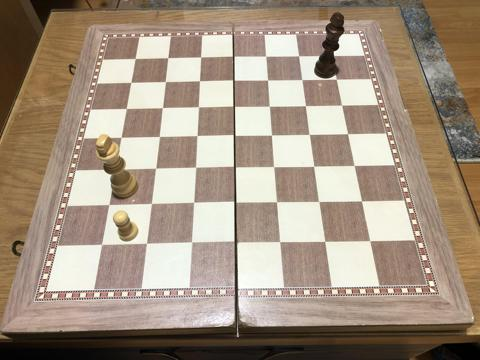xcorner: (328, 50, 340, 62), (295, 51, 307, 63), (262, 51, 274, 63), (229, 52, 241, 64), (197, 53, 209, 65), (164, 53, 176, 65), (131, 54, 143, 66), (333, 74, 345, 86), (299, 74, 311, 86), (264, 75, 276, 87), (230, 76, 242, 88), (195, 76, 207, 88), (161, 77, 173, 89), (127, 78, 139, 90), (338, 100, 350, 112), (302, 100, 314, 112), (266, 101, 278, 113), (230, 102, 242, 114), (194, 102, 206, 114), (158, 103, 170, 115), (122, 104, 134, 116), (344, 128, 356, 140), (306, 129, 318, 141), (268, 130, 280, 142), (230, 130, 242, 142), (192, 131, 204, 143), (154, 132, 166, 144), (116, 132, 128, 144), (351, 160, 363, 172), (311, 161, 323, 173), (270, 162, 282, 174), (230, 162, 242, 174), (190, 163, 202, 175), (150, 164, 162, 176), (110, 164, 122, 176), (358, 196, 370, 208), (316, 197, 328, 209), (273, 197, 285, 209), (231, 198, 243, 210), (188, 199, 200, 211), (146, 199, 158, 211), (104, 200, 116, 212), (367, 236, 379, 248), (321, 237, 333, 249), (276, 237, 288, 249), (231, 238, 243, 250), (186, 239, 198, 251), (141, 239, 153, 251), (96, 240, 108, 252)
